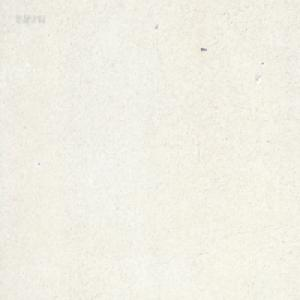Nail: (200, 46, 207, 51)
